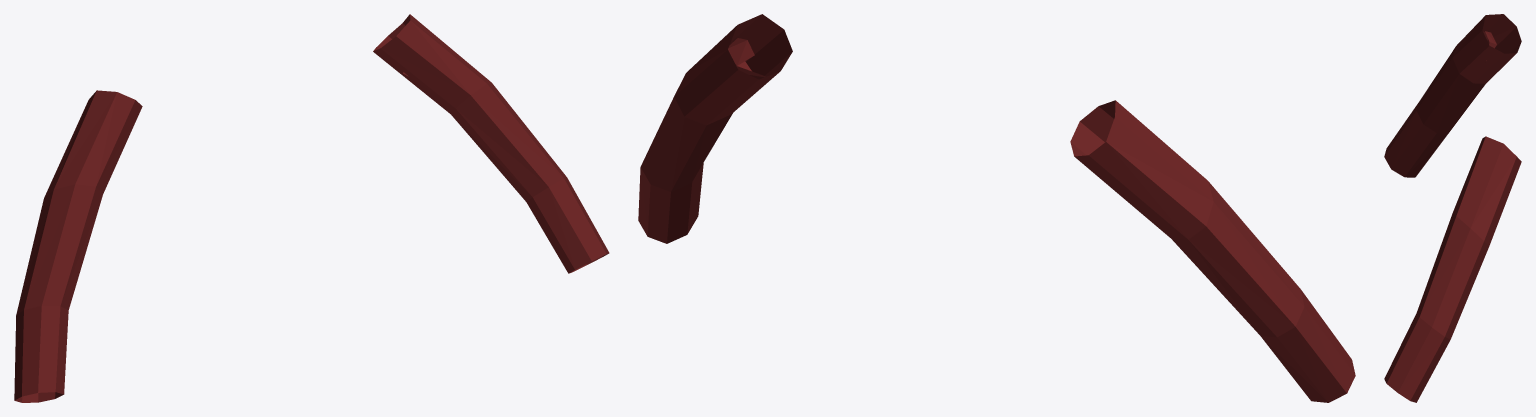
File: Artéria Iliaca Externa.FBX
3 renders of one model, left to right at view 1: azimuth 30°, elevation 25°; view 2: azimuth 150°, elevation 25°; view 3: azimuth 270°, elevation 25°, orthographic. The views are drawn at different scales.
Parts seen in each view (by area): view 1: CS_Arterie; view 2: CS_Arterie; view 3: CS_Arterie.
Boxes of the visible parts, <box> form: CS_Arterie: <box>14,14,609,402</box>; CS_Arterie: <box>638,14,1355,402</box>; CS_Arterie: <box>1384,14,1521,402</box>.
Size of the model in its own units: 431 by 175 by 103.
